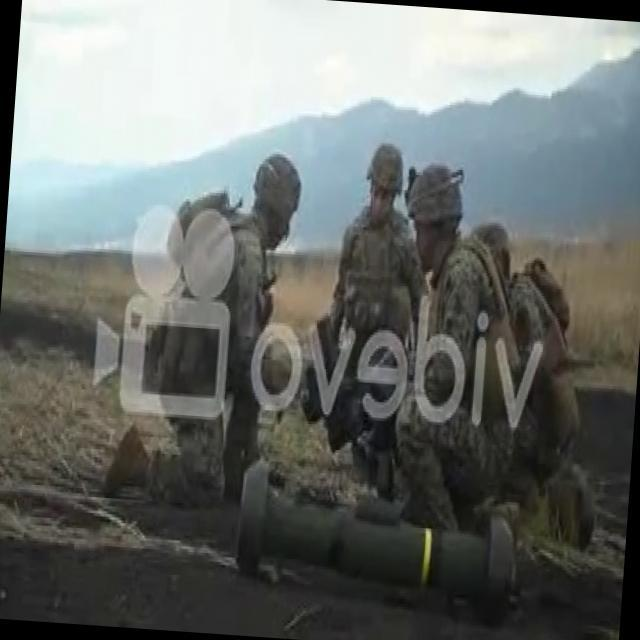rocket: (232, 453, 520, 628)
